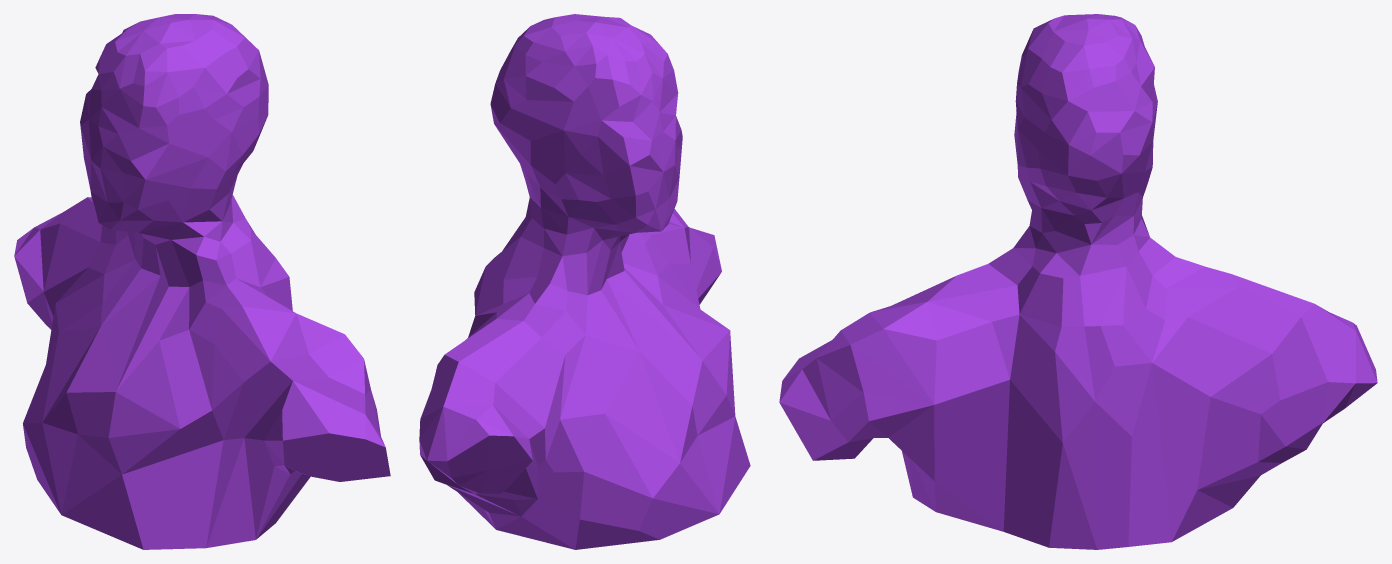
Rendered from Statue.012.fbx.
The picture shows the model from 3 angles, left to right: view 1: azimuth 30°, elevation 25°; view 2: azimuth 150°, elevation 25°; view 3: azimuth 270°, elevation 25°; orthographic projection. The views are drawn at different scales.
Parts seen in each view (by area): view 1: Statue.012; view 2: Statue.012; view 3: Statue.012.
Boxes of the visible parts, <box> form: Statue.012: <box>14,14,390,549</box>; Statue.012: <box>419,14,750,549</box>; Statue.012: <box>779,14,1377,549</box>.
Size of the model in its own units: 181 by 345 by 389.
